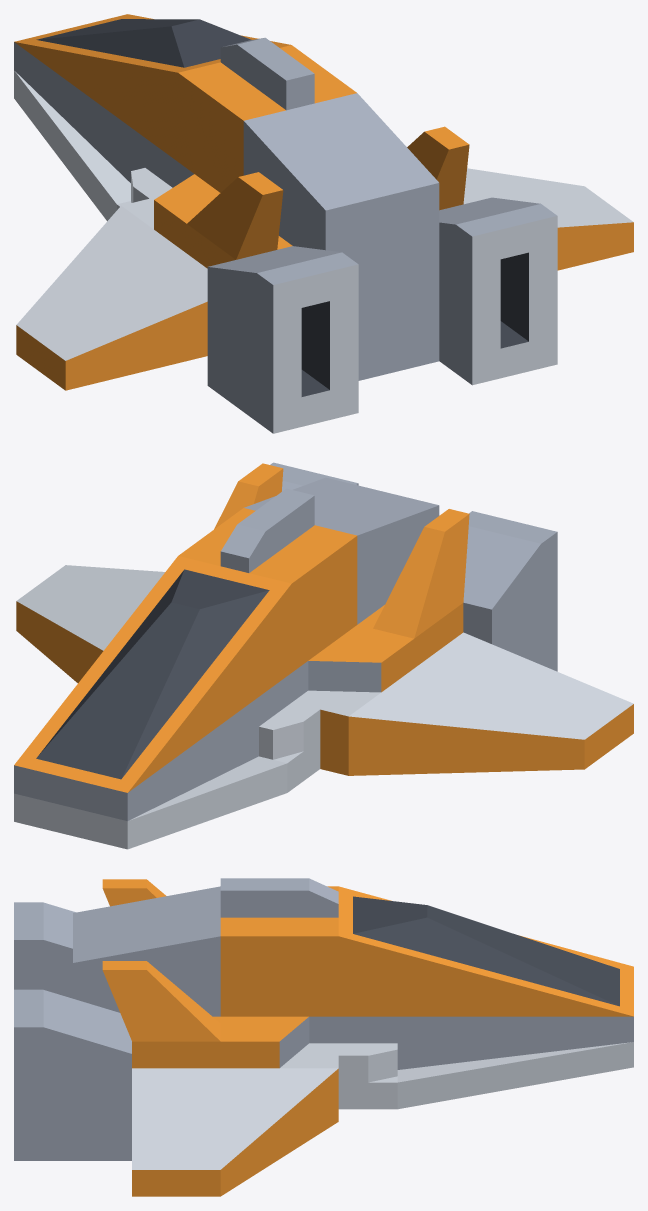
File: k-craft-speeder-a.glb
3 renders of one model, top to bottom at view 1: azimuth 30°, elevation 25°; view 2: azimuth 150°, elevation 25°; view 3: azimuth 270°, elevation 25°, orthographic. The views are drawn at different scales.
Parts seen in each view (by area): view 1: craft_speederA; view 2: craft_speederA; view 3: craft_speederA.
Boxes of the visible parts, x1,y1,x2,y2 form: craft_speederA: (14, 14, 633, 433); craft_speederA: (14, 462, 633, 849); craft_speederA: (14, 878, 633, 1196).
Size of the model in its own units: 2 by 0.8 by 2.1.
